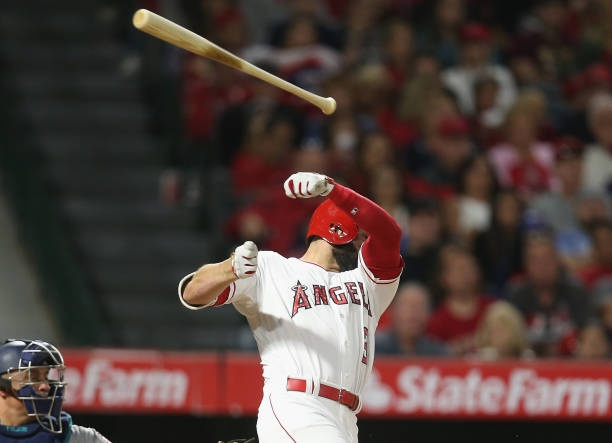bita: (136, 9, 336, 113)
